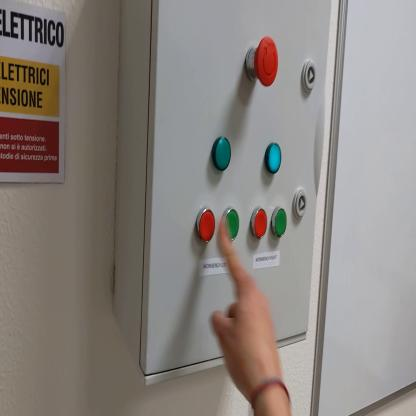hand: (209, 213, 283, 399)
left green button: (224, 207, 241, 240)
left red button: (196, 206, 217, 241)
right green button: (273, 210, 288, 236)
right red button: (252, 207, 269, 240)
